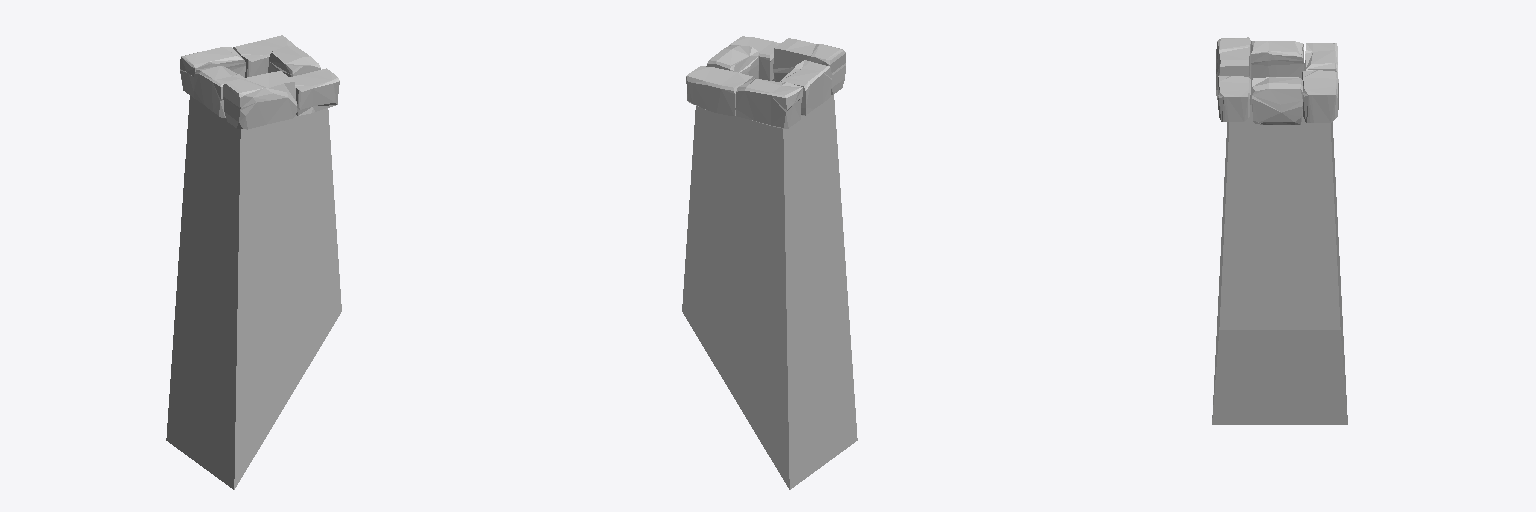
File: Prop_Chimney.obj
3 renders of one model, left to right at view 1: azimuth 30°, elevation 25°; view 2: azimuth 150°, elevation 25°; view 3: azimuth 270°, elevation 25°, orthographic.
Parts seen in each view (by area): view 1: Prop_Chimney; view 2: Prop_Chimney; view 3: Prop_Chimney.
Boxes of the visible parts, x1,y1,x2,y2 form: Prop_Chimney: [166, 35, 341, 489]; Prop_Chimney: [682, 36, 857, 489]; Prop_Chimney: [1212, 37, 1347, 424].
Size of the model in its own units: 0.9458 by 3.18 by 1.